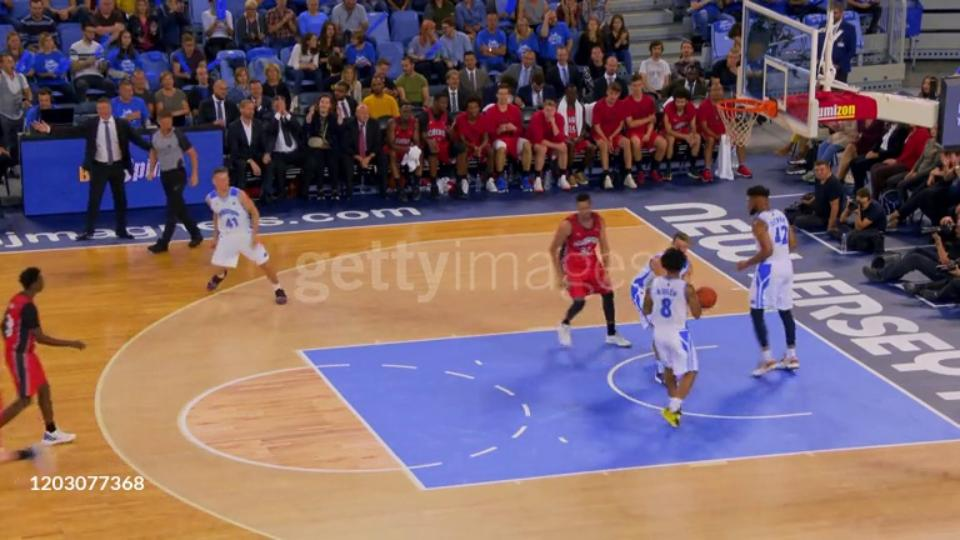hoop: (717, 97, 785, 123)
